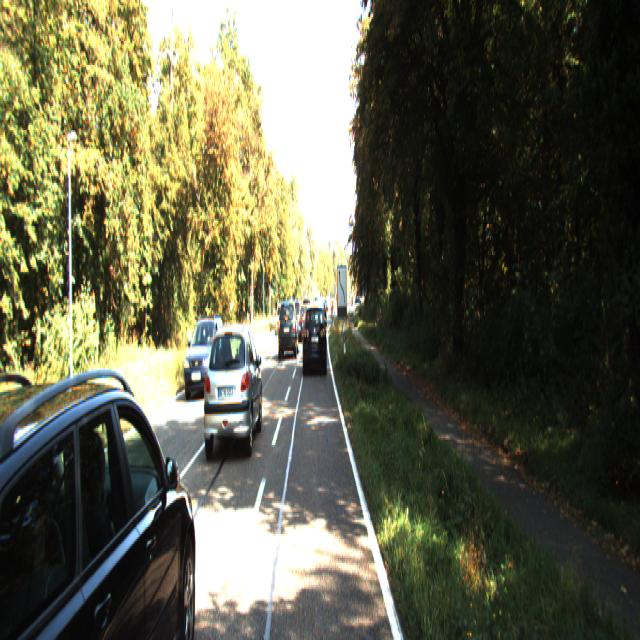Car: (0, 343, 201, 638), (203, 317, 261, 459), (183, 314, 227, 397), (302, 300, 326, 373), (278, 297, 299, 354)
